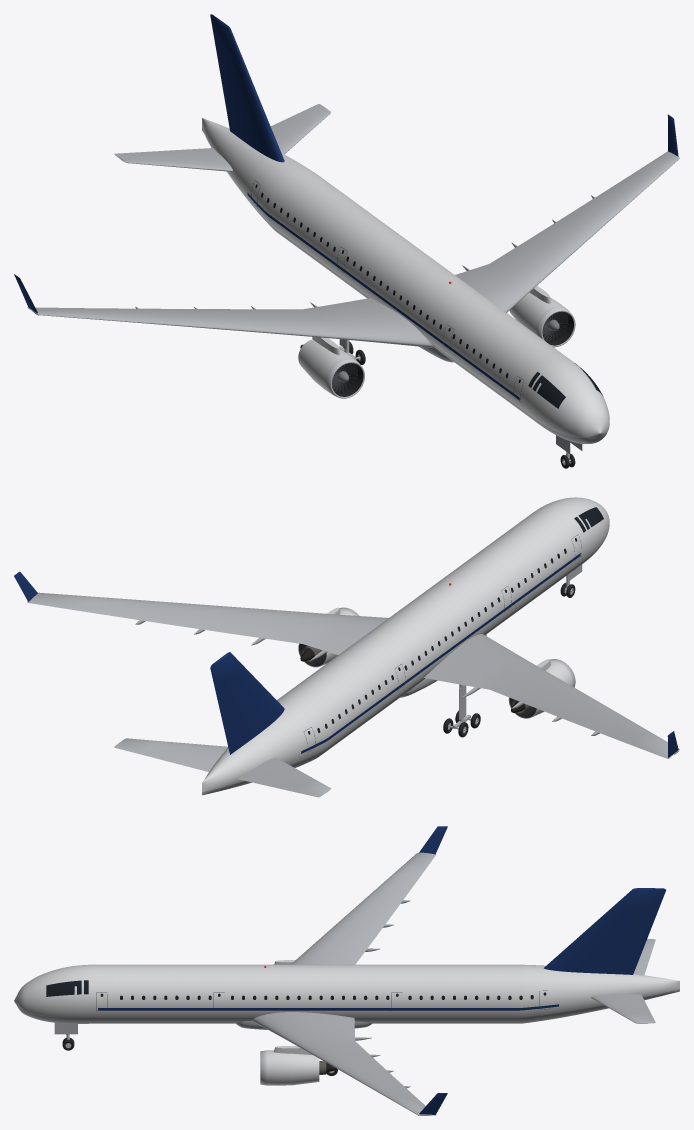
The model's file is aeriform-widebody.glb.
3 views of the same model, one above another, from view 1: azimuth 30°, elevation 25°; view 2: azimuth 150°, elevation 25°; view 3: azimuth 270°, elevation 25° (orthographic). The views are drawn at different scales.
Parts seen in each view (by area): view 1: Fuselage, Wings, Tail, Engines; view 2: Fuselage, Wings, Tail, Engines, Landing gear wheels, Cabin windows; view 3: Fuselage, Wings, Tail, Engines, Cabin windows.
Part boxes in pixels (x1,y1,x2,y2): Fuselage: (202, 118, 609, 443); Wings: (14, 114, 679, 347); Tail: (114, 14, 330, 171); Engines: (298, 292, 575, 398); Fuselage: (202, 497, 609, 795); Wings: (14, 571, 679, 758); Tail: (114, 652, 330, 797); Engines: (298, 607, 575, 718); Landing gear wheels: (443, 583, 575, 737); Cabin windows: (317, 548, 566, 732); Fuselage: (14, 964, 679, 1023); Wings: (252, 826, 447, 1115); Tail: (544, 888, 666, 1023); Engines: (260, 964, 336, 1085); Cabin windows: (120, 995, 533, 999).
Bounding box in the file's own units: 60.32 × 16.97 × 63.6.
22 materials, 22 textured.
